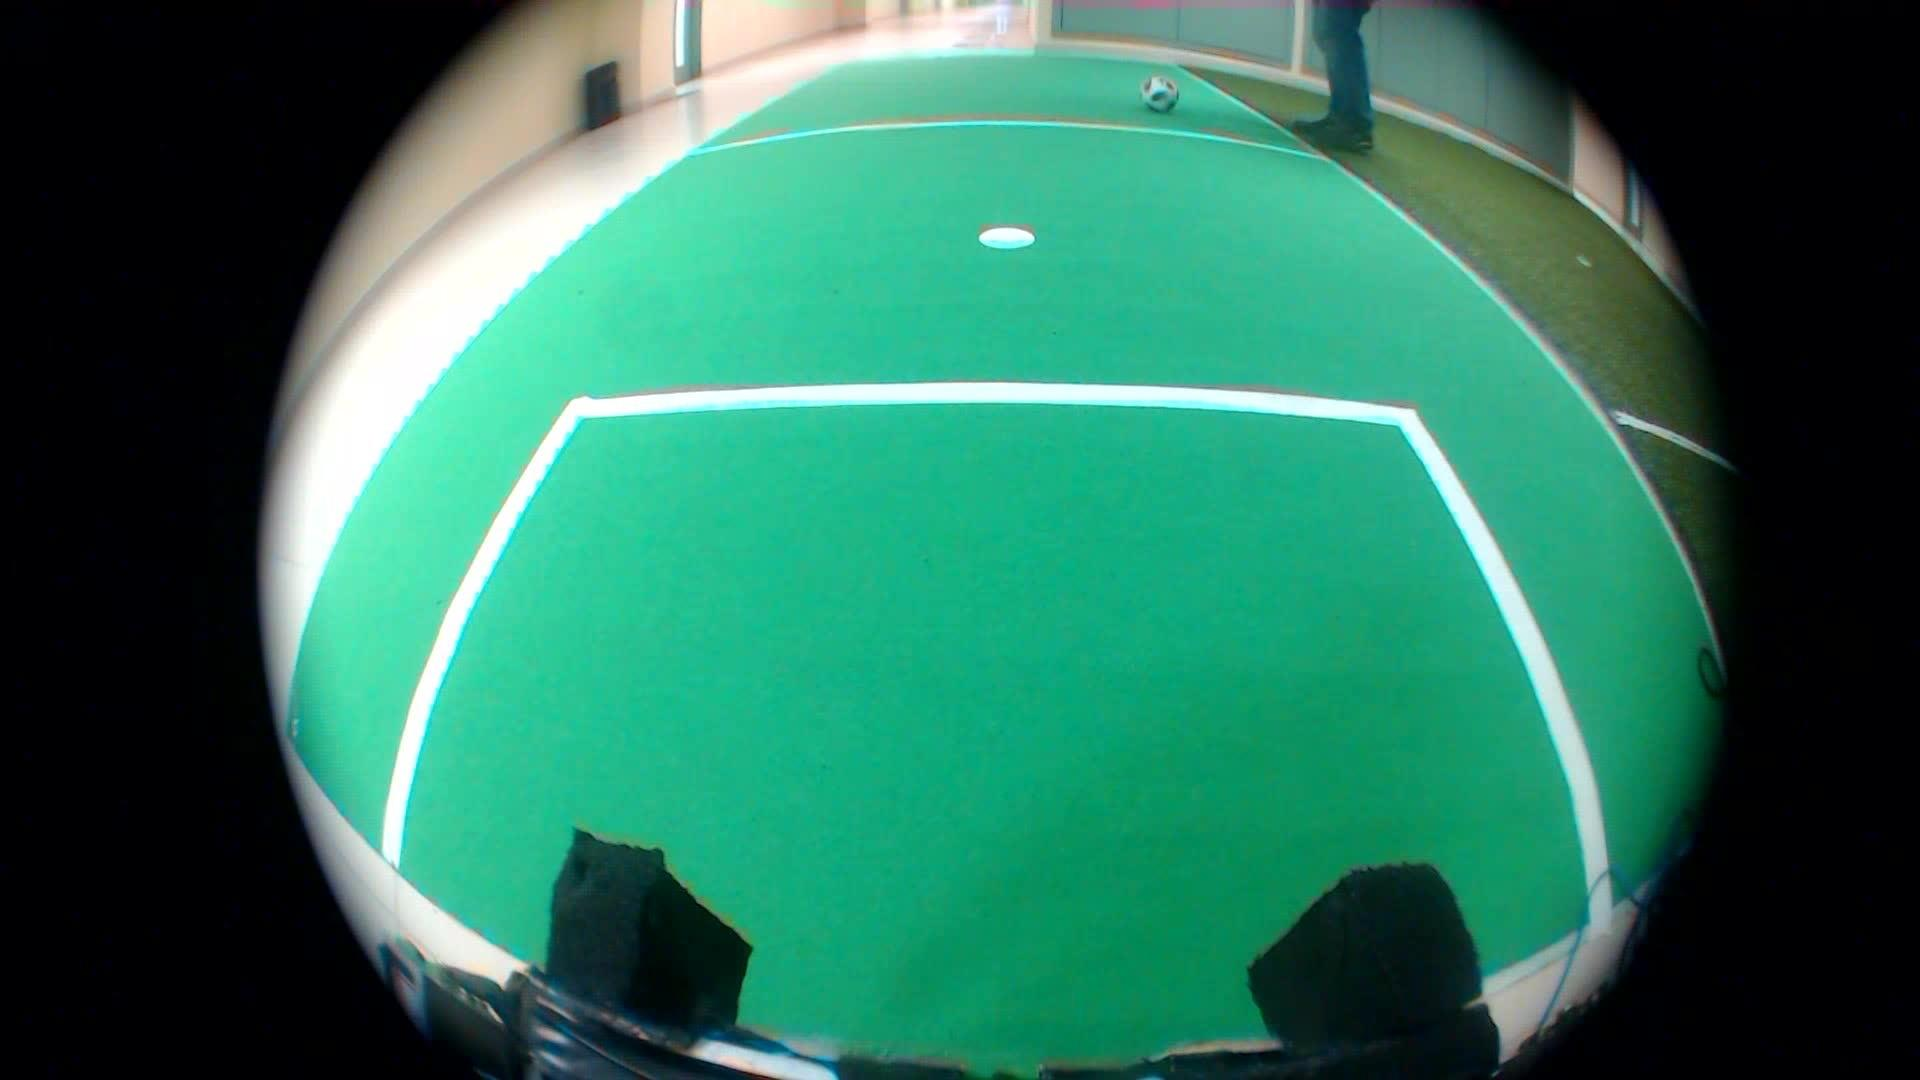ball: (1130, 67, 1179, 125)
